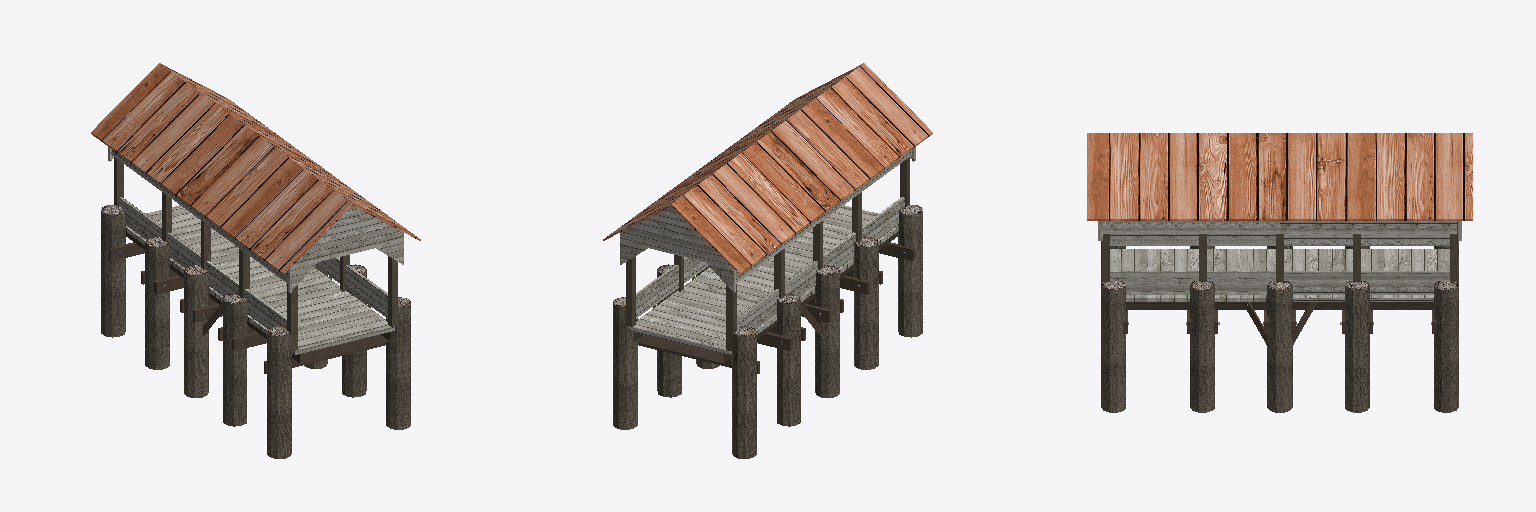
3 views of the same model, side by side, from view 1: azimuth 30°, elevation 25°; view 2: azimuth 150°, elevation 25°; view 3: azimuth 270°, elevation 25° (orthographic).
Parts seen in each view (by area): view 1: Puente; view 2: Puente; view 3: Puente.
Boxes of the visible parts, box(x1,y1,x2,y2) form: Puente: box(91, 63, 420, 458); Puente: box(603, 63, 932, 458); Puente: box(1087, 133, 1472, 412).
Bounding box in the file's own units: 4.18 × 7 × 9.98.
Materials: 8 (8 with a texture image).